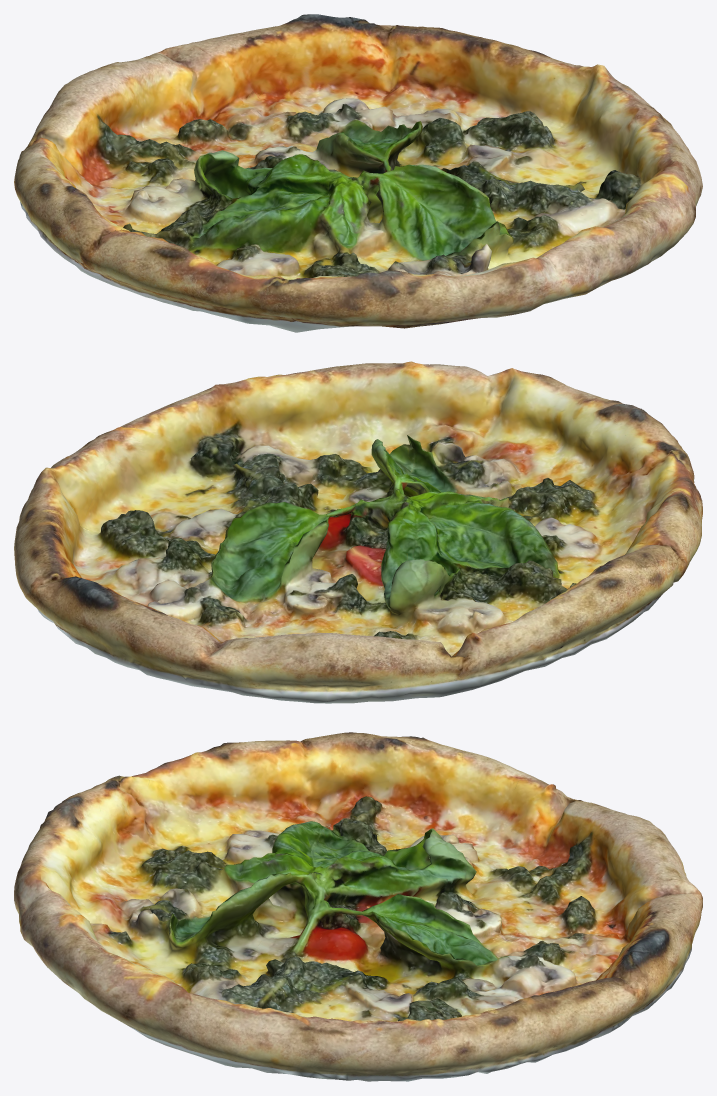
File: pesto 5.glb
The picture shows the model from 3 angles, top to bottom: view 1: azimuth 30°, elevation 25°; view 2: azimuth 150°, elevation 25°; view 3: azimuth 270°, elevation 25°; orthographic projection. The views are drawn at different scales.
Visible parts, largest first — view 1: ObjectCapture; view 2: ObjectCapture; view 3: ObjectCapture.
Boxes of the visible parts, <box> form: ObjectCapture: <box>14,14,702,332</box>; ObjectCapture: <box>14,361,702,703</box>; ObjectCapture: <box>14,732,702,1081</box>.
Size of the model in its own units: 0.2856 by 0.0412 by 0.2906.
Materials: 1 (1 with a texture image).
